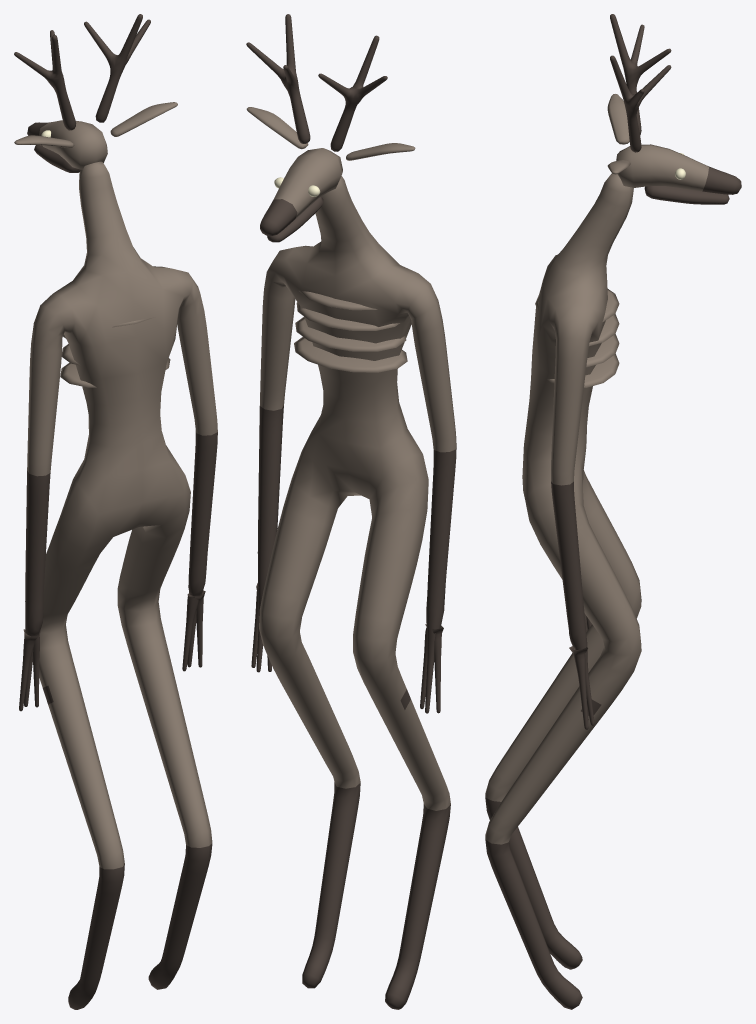
Rendered from LaCosa.fbx.
The picture shows the model from 3 angles, left to right: view 1: azimuth 30°, elevation 25°; view 2: azimuth 150°, elevation 25°; view 3: azimuth 270°, elevation 25°; orthographic projection. The views are drawn at different scales.
Visible parts, largest first — view 1: LaCosa_Body, LaCosa_Head, LaCosa_Jaw; view 2: LaCosa_Body, LaCosa_Head, LaCosa_Jaw; view 3: LaCosa_Body, LaCosa_Head, LaCosa_Jaw.
Part boxes in pixels (left/top/right/bottom): LaCosa_Body: left=19, top=161, right=217, bottom=1009; LaCosa_Head: left=14, top=14, right=177, bottom=169; LaCosa_Jaw: left=34, top=145, right=80, bottom=172; LaCosa_Body: left=251, top=176, right=456, bottom=1009; LaCosa_Head: left=246, top=14, right=415, bottom=235; LaCosa_Jaw: left=267, top=196, right=323, bottom=242; LaCosa_Body: left=485, top=173, right=641, bottom=1009; LaCosa_Head: left=607, top=14, right=741, bottom=194; LaCosa_Jaw: left=644, top=186, right=729, bottom=204.
Bounding box in the file's own units: 0.6899 × 3.37 × 0.82.
